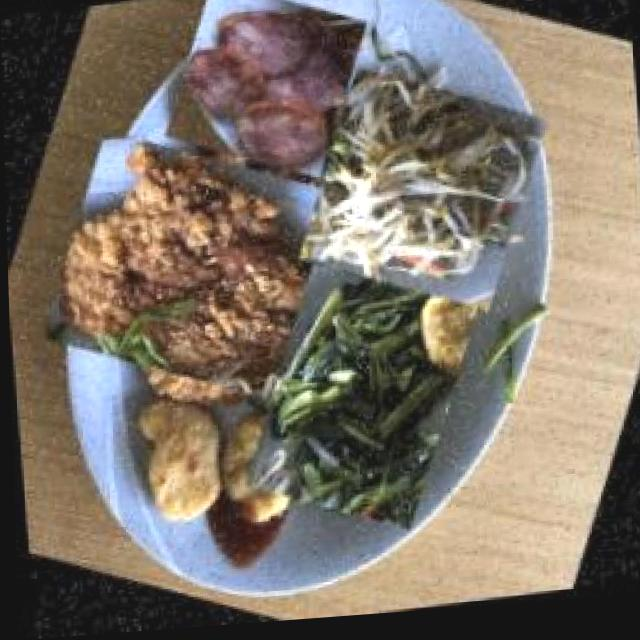chicken_nuggets: (102, 369, 321, 570)
chinese_sausage: (150, 0, 378, 199)
fried_chicken: (31, 97, 363, 441)
mung_bean_sprouts: (282, 51, 558, 340)
water_spinach: (224, 250, 494, 555)
